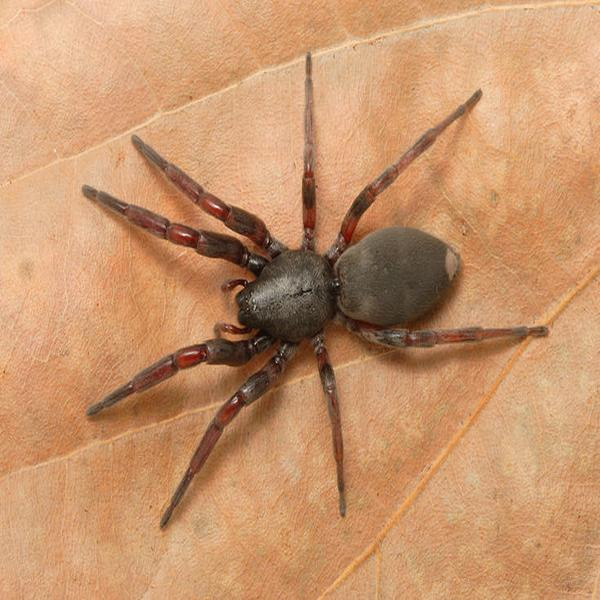White-Tailed_Spider: (82, 53, 550, 532)
